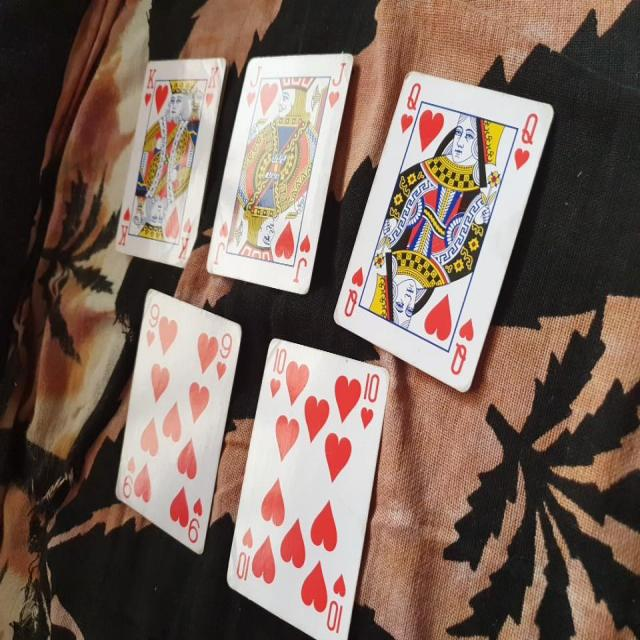10 Hearts: (216, 332, 389, 636)
9 Hearts: (115, 282, 246, 560)
J Hearts: (202, 51, 355, 298)
K Hearts: (108, 58, 231, 270)
Q Hearts: (331, 62, 558, 401)
